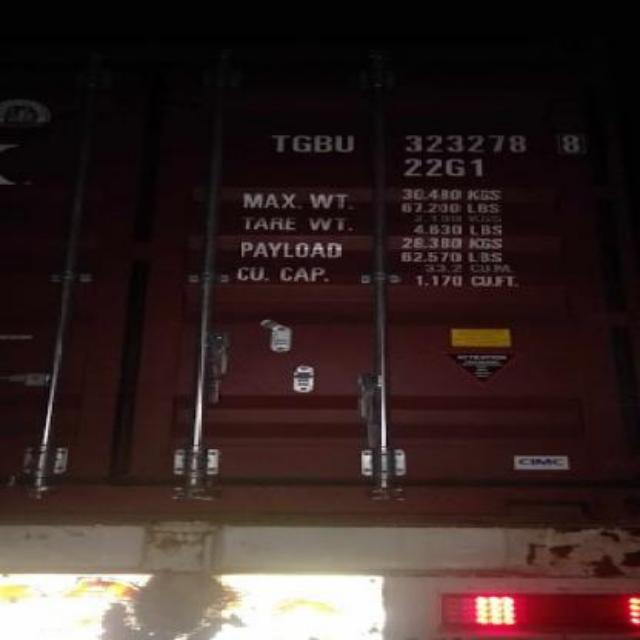2: (425, 134, 445, 154), (466, 133, 486, 153)
3: (404, 134, 424, 154), (445, 134, 465, 152)
7: (488, 131, 508, 153)
8: (558, 132, 584, 154), (509, 134, 528, 154)
B: (312, 134, 334, 154)
G: (292, 132, 312, 154)
T: (270, 131, 292, 155)
U: (334, 132, 356, 154)
